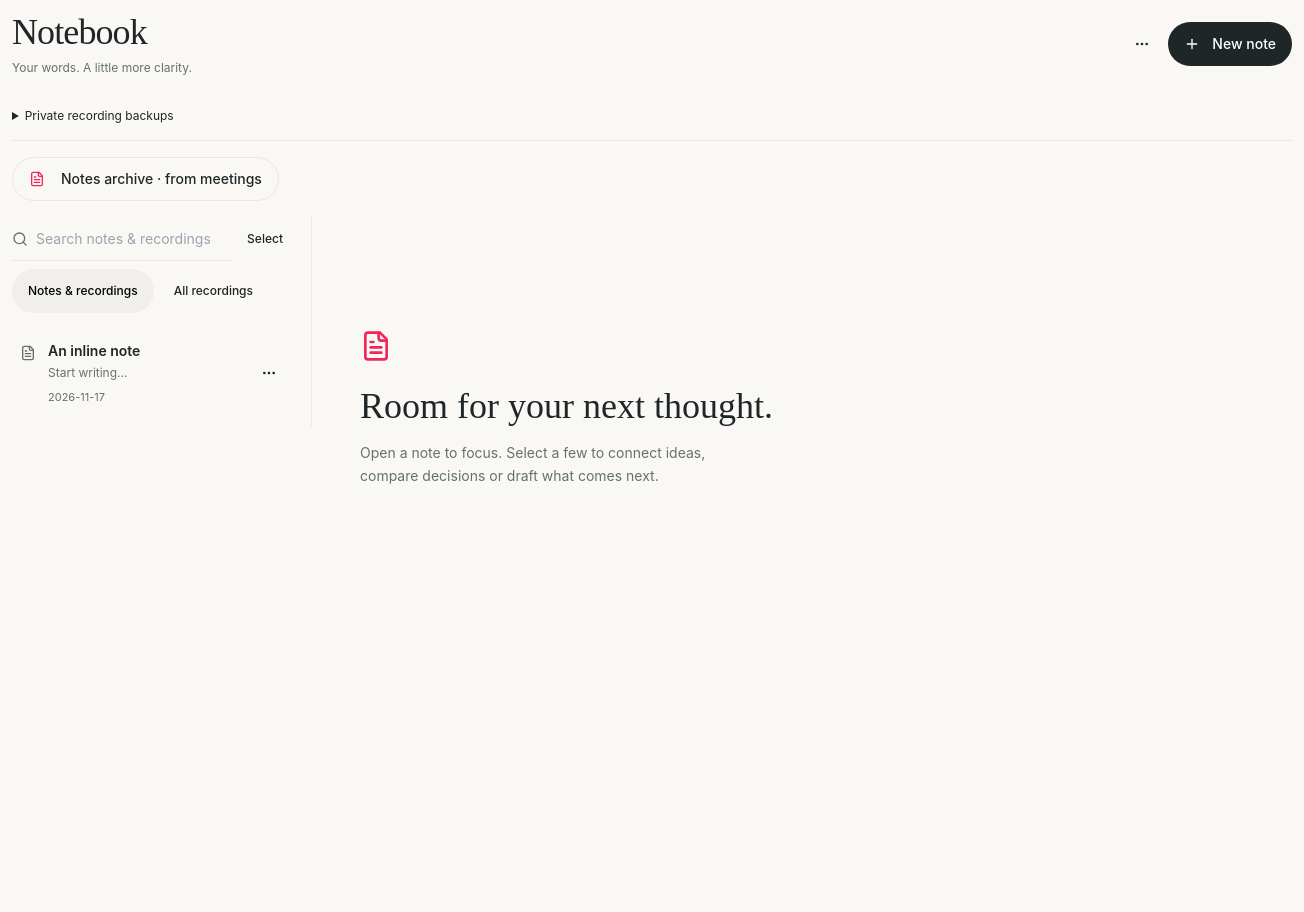
it: one selection-driven notebook › opens the actual editor in the focus workspace without a dialog
Later steps or results of the test are not shown.
What coordinates should you click on to do the following:
click the button "An inline note Start writing… 2026-11-17"
I would click on:
 (128, 373)
Its box is [12, 325, 243, 422].
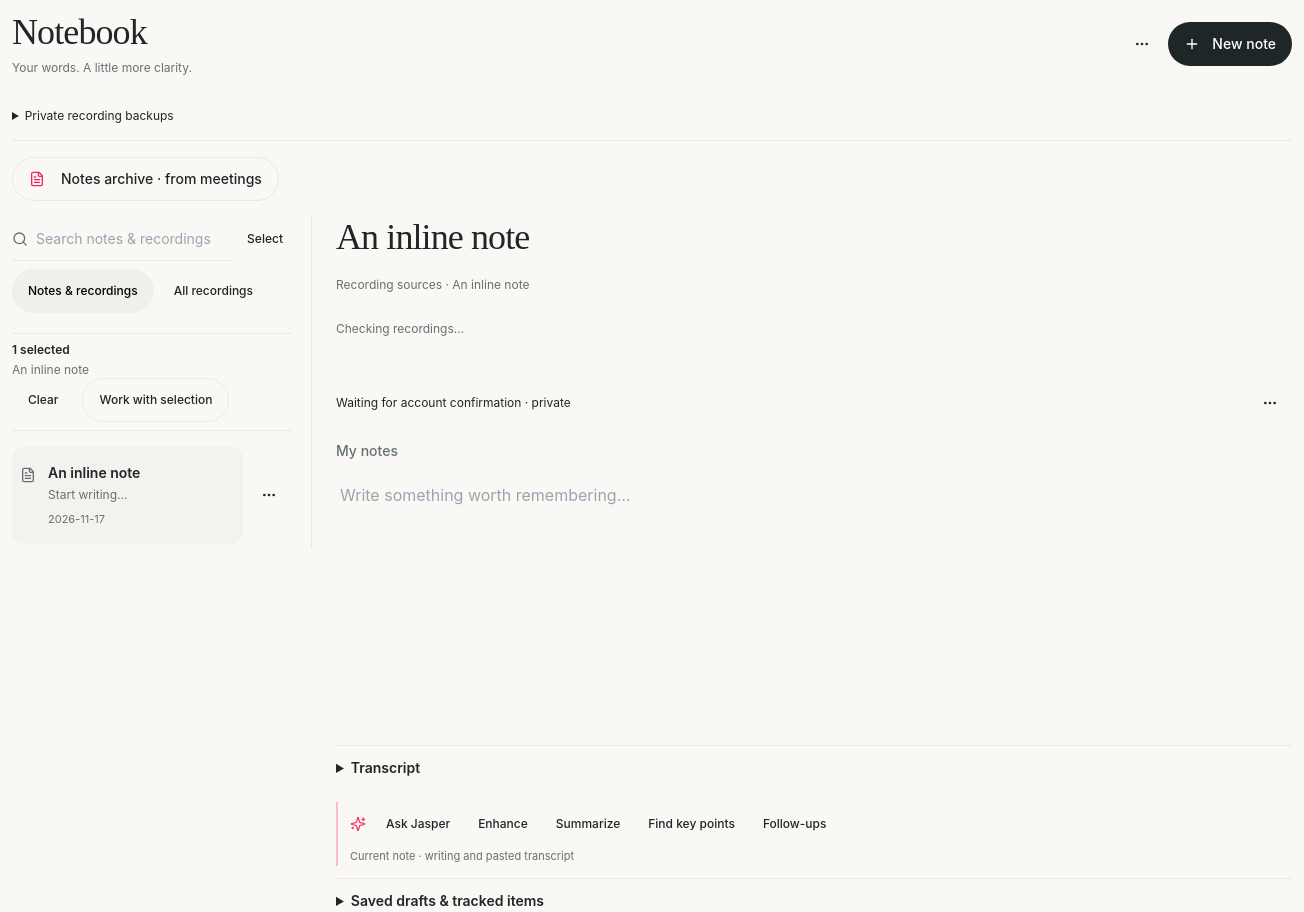
Expected: the field named "Note title" holds "An inline note", [336, 217, 1292, 257]
